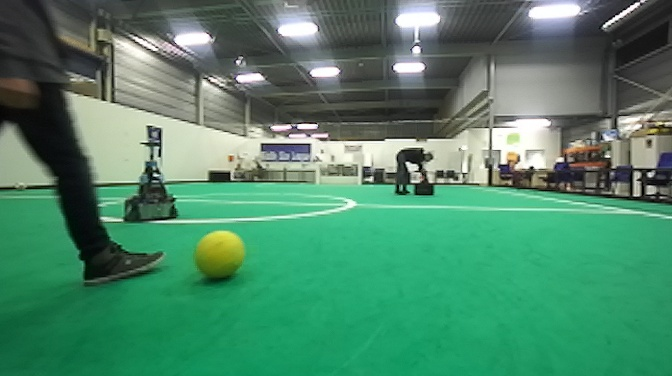ball: (190, 228, 250, 285), (12, 179, 28, 192)
goal: (314, 161, 362, 187)
goalpost: (314, 161, 322, 187), (356, 160, 362, 188)
human: (1, 1, 172, 289), (393, 144, 437, 197)
robot: (119, 137, 184, 226), (413, 167, 437, 197)
